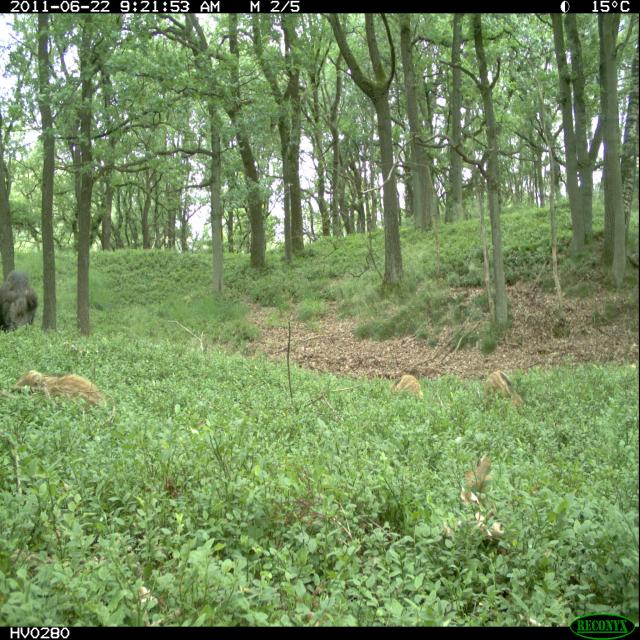boar: (18, 354, 138, 456), (0, 244, 49, 352), (466, 346, 534, 423), (384, 360, 434, 426)
